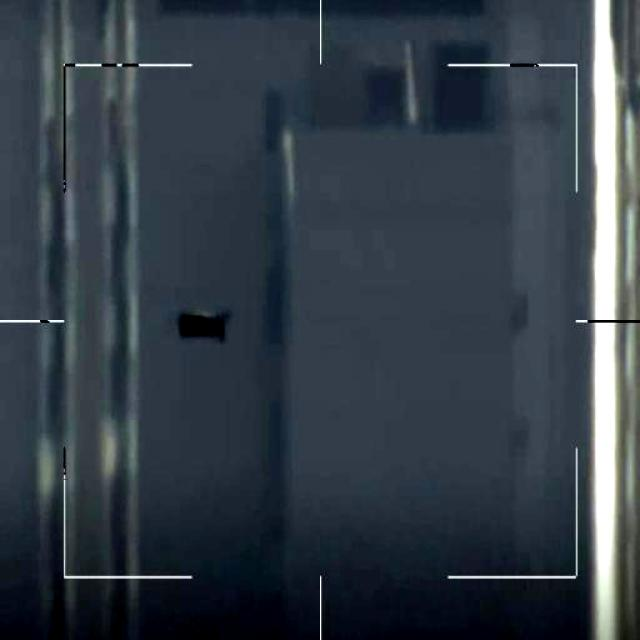bird: (176, 309, 229, 342)
